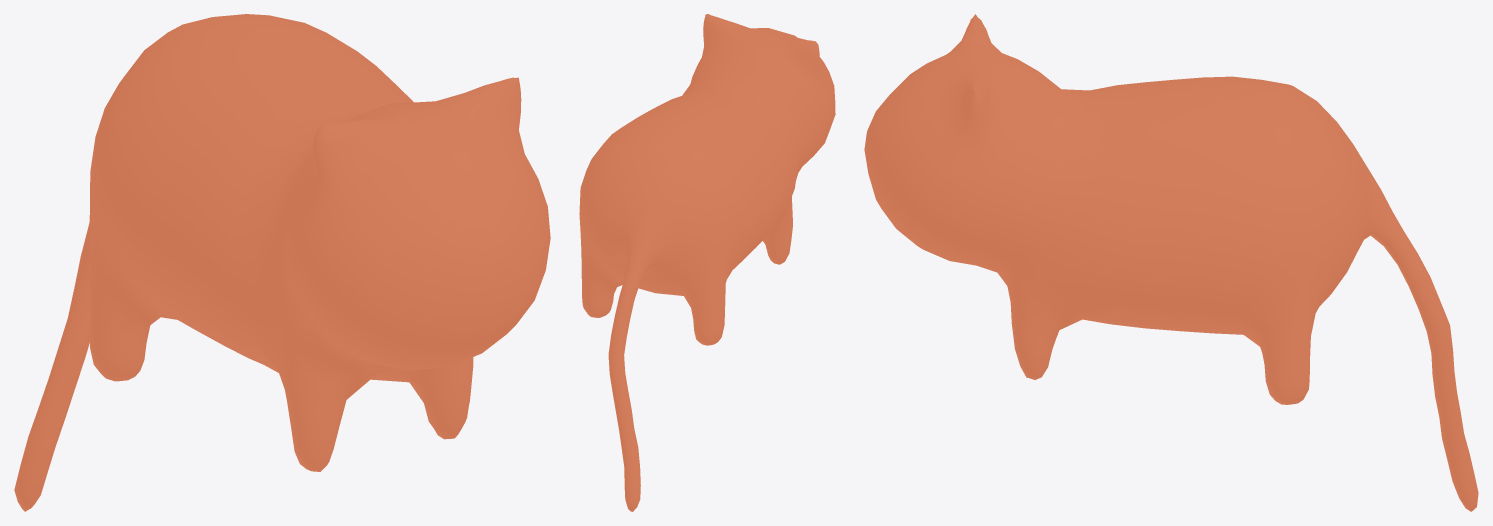
Rendered from cat-topaint.fbx.
The picture shows the model from 3 angles, left to right: view 1: azimuth 30°, elevation 25°; view 2: azimuth 150°, elevation 25°; view 3: azimuth 270°, elevation 25°; orthographic projection. The views are drawn at different scales.
Parts seen in each view (by area): view 1: Volume_Mesher_remesh; view 2: Volume_Mesher_remesh; view 3: Volume_Mesher_remesh.
Boxes of the visible parts, box(x1,y1,x2,y2) form: Volume_Mesher_remesh: box(14, 14, 550, 511); Volume_Mesher_remesh: box(579, 14, 835, 511); Volume_Mesher_remesh: box(864, 14, 1478, 511).
Bounding box in the file's own units: 79.36 × 168 × 190.
